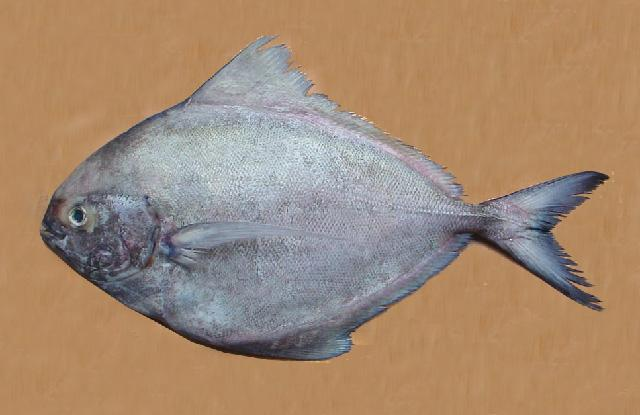Mulut: (19, 191, 80, 286)
Sirip Anal: (330, 218, 478, 336)
Sirip Dada: (139, 204, 365, 280)
Sirip Ekor: (470, 160, 624, 326)
Sirip Perut: (222, 316, 364, 378)
Sirip Punggung: (178, 23, 476, 208)
